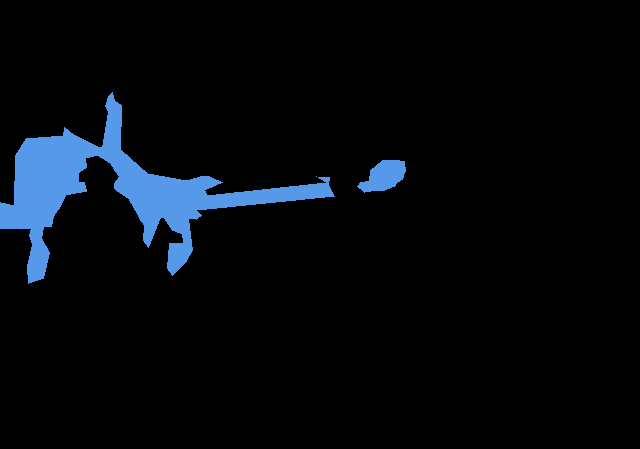Airplane: (0, 92, 405, 283)
